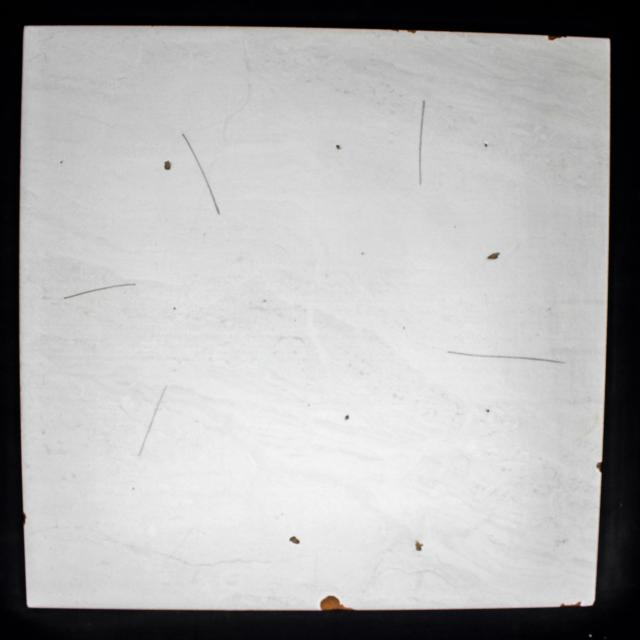edge-chipping: (319, 594, 353, 611), (559, 600, 582, 608), (547, 35, 567, 41), (22, 510, 28, 527), (595, 461, 602, 473), (405, 29, 418, 34)
hole: (288, 535, 301, 545), (414, 539, 424, 552), (486, 252, 501, 260), (163, 160, 172, 170), (335, 144, 341, 150), (344, 414, 349, 421), (484, 142, 488, 148), (486, 409, 490, 413)
line: (137, 382, 169, 458), (446, 349, 566, 365), (64, 283, 137, 299), (202, 172, 220, 216), (418, 98, 427, 185), (181, 132, 201, 170)
